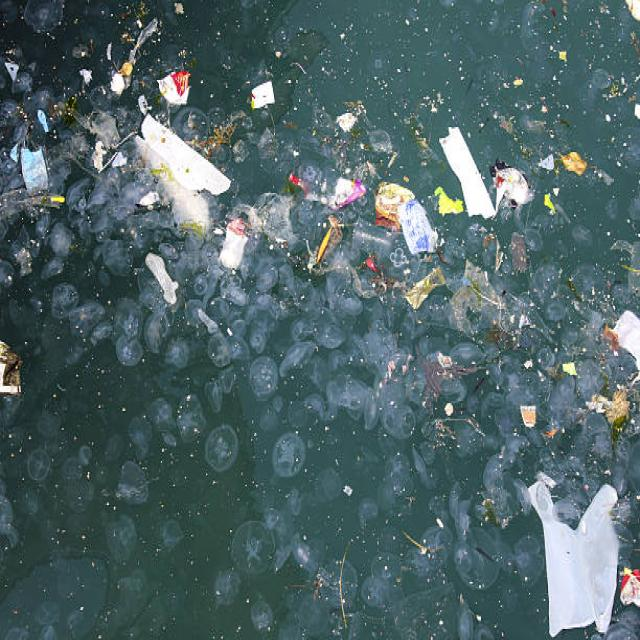garbage: (316, 101, 636, 441), (31, 34, 293, 304), (512, 465, 636, 635)
